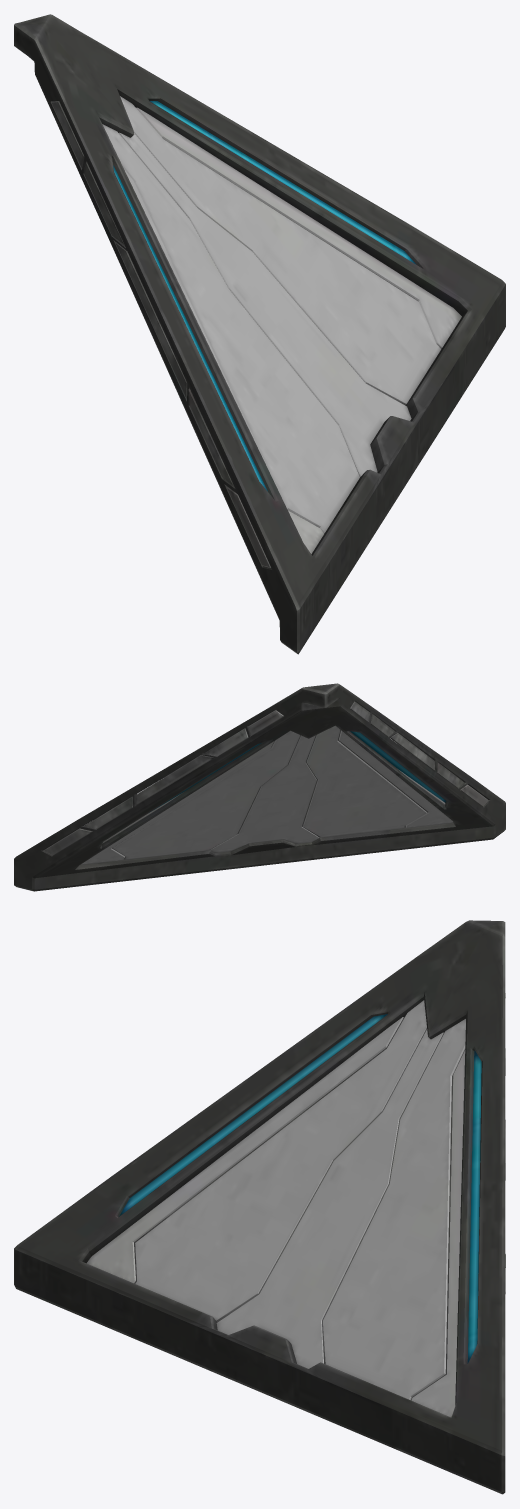
File: SM_SlopeRoofCorner_Ancient_da03c7.glb
3 renders of one model, top to bottom at view 1: azimuth 30°, elevation 25°; view 2: azimuth 150°, elevation 25°; view 3: azimuth 270°, elevation 25°, orthographic. The views are drawn at different scales.
Bounding box in the file's own units: 4.01 × 3.31 × 4.01.
1 material, 1 textured.
